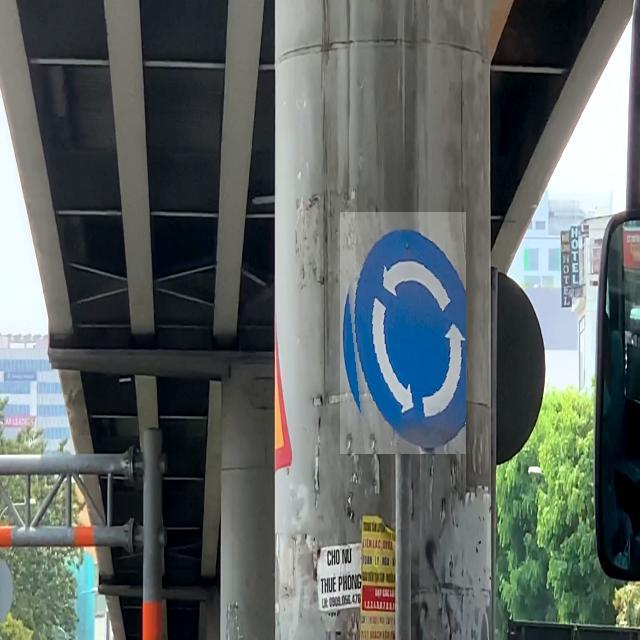R-303: (340, 213, 466, 455)
